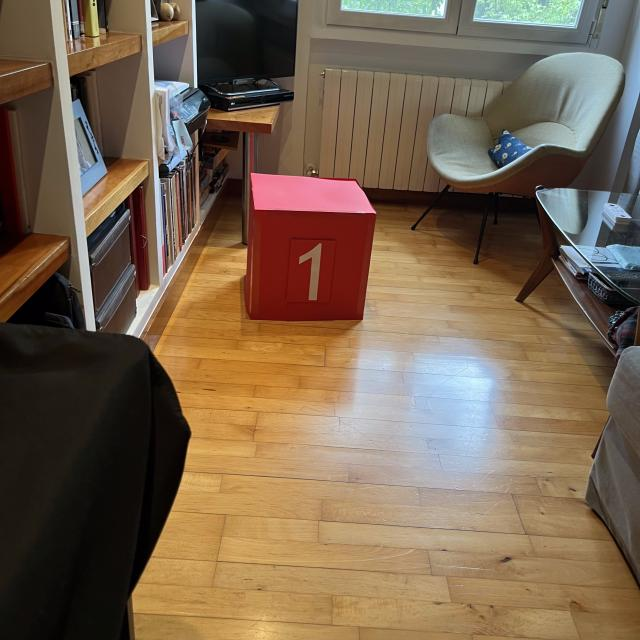box: (241, 168, 379, 324)
